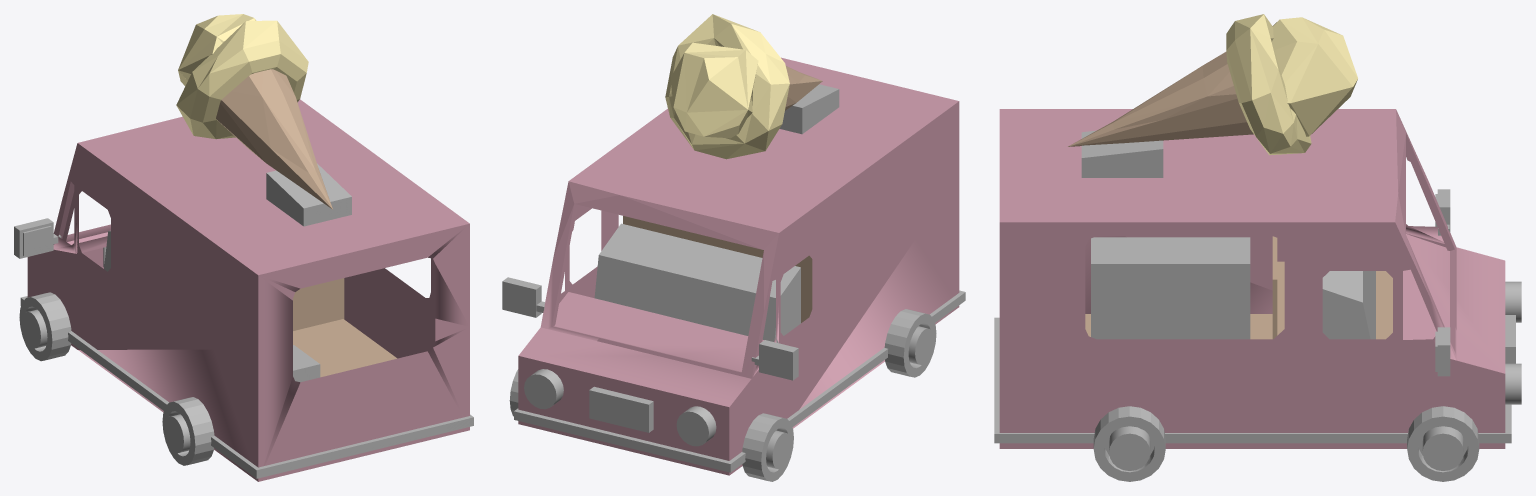
The model's file is Truck 1.fbx.
The picture shows the model from 3 angles, left to right: view 1: azimuth 30°, elevation 25°; view 2: azimuth 150°, elevation 25°; view 3: azimuth 270°, elevation 25°; orthographic projection. The views are drawn at different scales.
Parts seen in each view (by area): view 1: shell, scoop, cone, exteriorStructure, interiorStructure, black, white; view 2: shell, black, scoop, exteriorStructure, white, interiorStructure, cone; view 3: shell, white, scoop, black, exteriorStructure, cone, interiorStructure.
Boxes of the visible parts, box(x1,y1,x2,y2) form: shell: box(27, 99, 469, 481); scoop: box(176, 14, 308, 139); cone: box(216, 69, 332, 209); exteriorStructure: box(20, 163, 473, 478); interiorStructure: box(293, 278, 397, 377); black: box(14, 218, 214, 465); white: box(22, 226, 320, 453); shell: box(518, 57, 959, 475); black: box(502, 223, 936, 481); scoop: box(665, 14, 789, 159); exteriorStructure: box(514, 84, 965, 472); white: box(524, 326, 933, 469); interiorStructure: box(623, 216, 812, 322); cone: box(785, 66, 822, 110); shell: box(999, 109, 1505, 448); white: box(1091, 194, 1521, 470); scoop: box(1226, 14, 1357, 155); black: box(1093, 189, 1479, 481); exteriorStructure: box(994, 130, 1515, 443); cone: box(1068, 51, 1253, 146); interiorStructure: box(1085, 236, 1392, 339).
Bounding box in the file's own units: 7.38 × 8.85 × 10.53.
